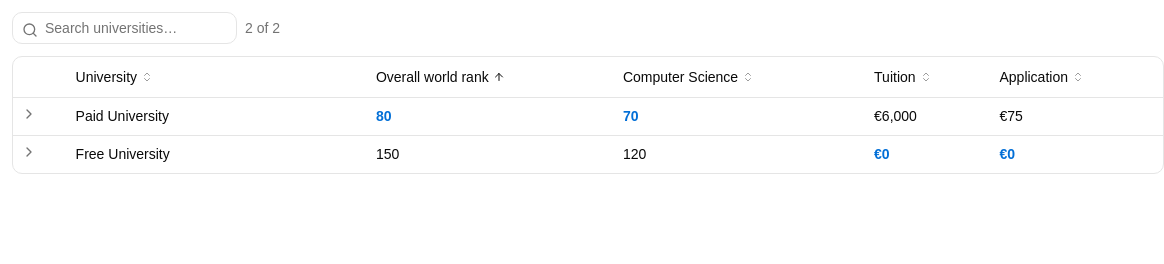
it: DatasetTable › keeps global rank, tuition, and application fee visible and sortable
The image size is (1164, 264).
Expected: the button "Overall world rank" is shown, [376,67,505,87]
Expected: the button "Application" is shown, [1000,67,1084,87]
Click the button "Tuition".
click(903, 77)  # box [874,67,932,87]
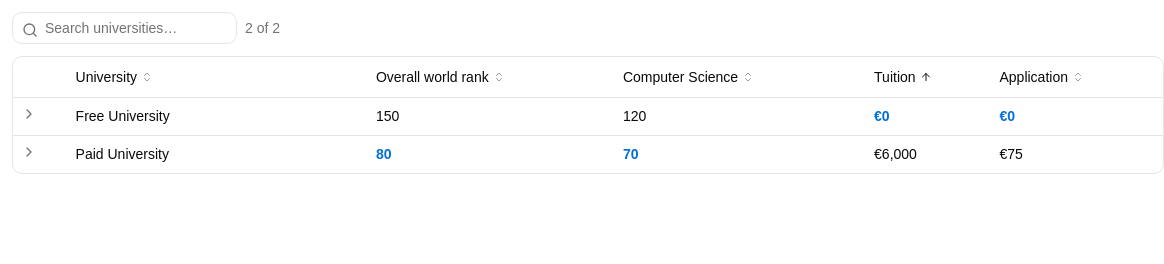
Expected: the text "Free University" is shown, [76,106,170,126]
Click the button named "Show details" next to "Free University".
click(29, 114)  # box [21,106,37,122]
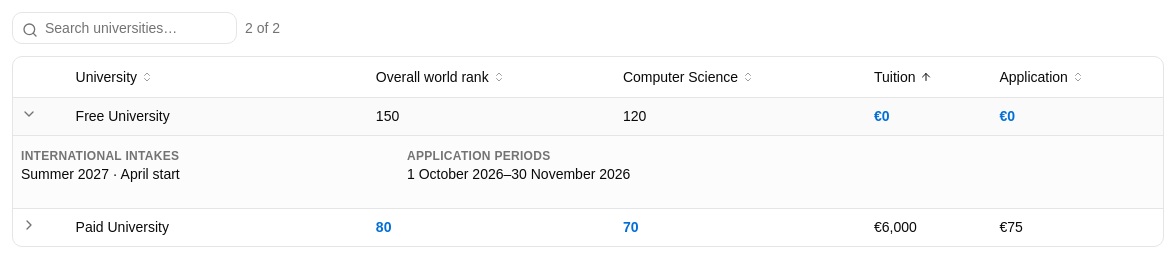
Expected: the text "Summer 2027 · April start" is shown, [21,166,180,182]
Expected: the text "1 October 2026–30 November 2026" is shown, [407,166,630,182]
